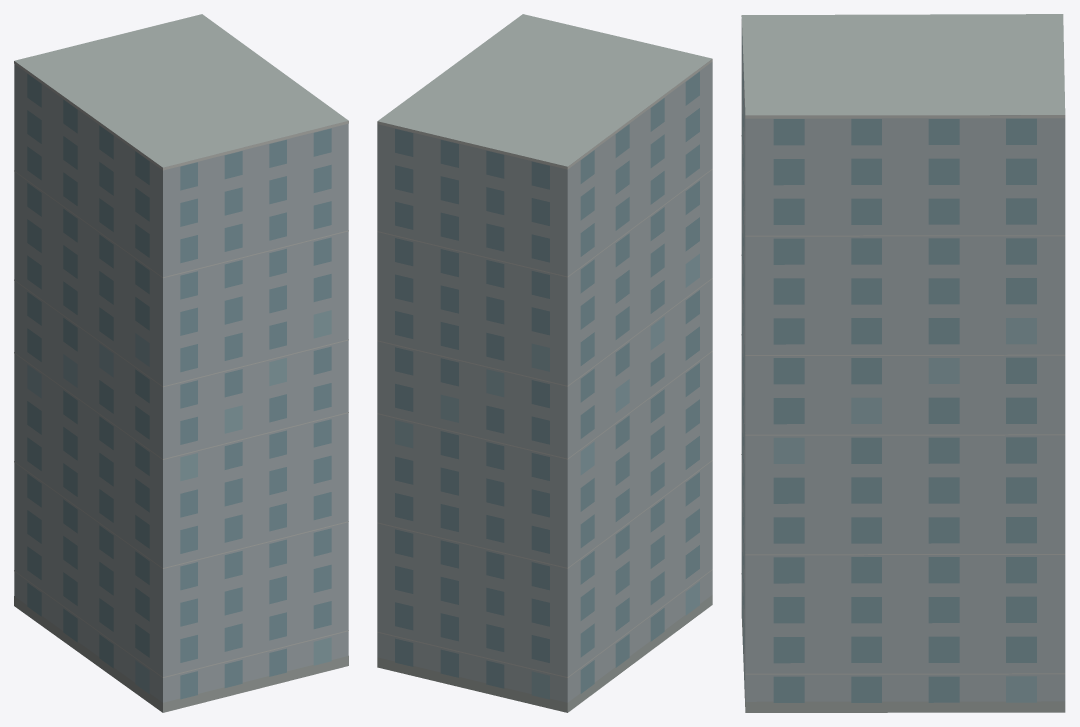
The model's file is survey-upis-32991021.glb.
3 views of the same model, side by side, from view 1: azimuth 30°, elevation 25°; view 2: azimuth 150°, elevation 25°; view 3: azimuth 270°, elevation 25° (orthographic). The views are drawn at different scales.
Parts seen in each view (by area): view 1: survey-upis-32991021.tmp; view 2: survey-upis-32991021.tmp; view 3: survey-upis-32991021.tmp.
Boxes of the visible parts, x1,y1,x2,y2 form: survey-upis-32991021.tmp: [14, 14, 348, 712]; survey-upis-32991021.tmp: [377, 14, 712, 712]; survey-upis-32991021.tmp: [741, 14, 1065, 712].
Size of the model in its own units: 16.68 by 45.75 by 22.48.
